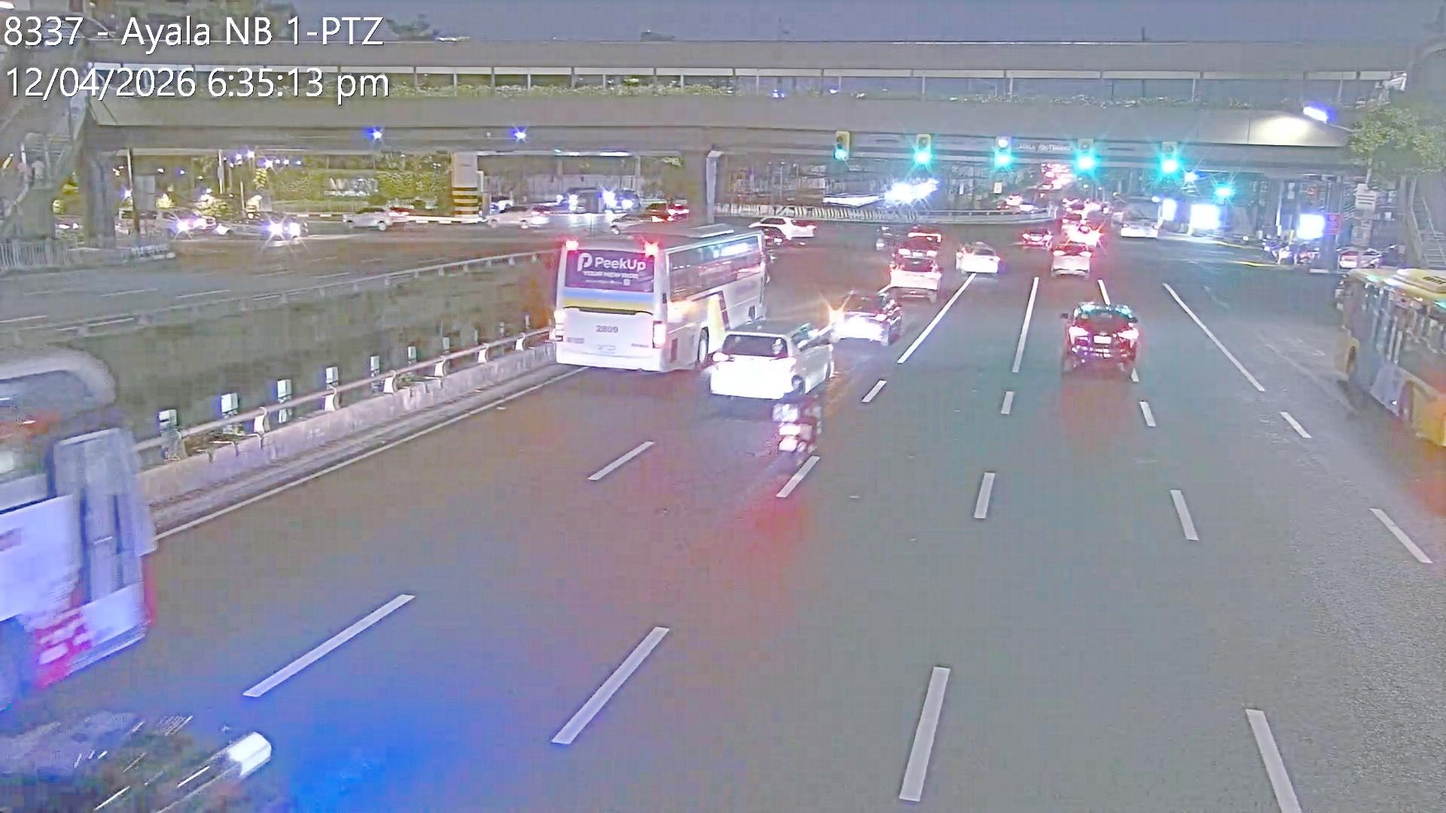Car: (708, 320, 833, 403), (1057, 300, 1144, 376), (830, 292, 899, 346), (886, 253, 942, 300), (893, 230, 944, 266), (746, 214, 819, 239), (1048, 241, 1096, 279), (954, 241, 1004, 277), (345, 207, 410, 230), (487, 206, 551, 229), (620, 201, 683, 222), (753, 222, 788, 249), (1020, 227, 1054, 251)
Motor: (768, 379, 821, 479)
Not Accident: (706, 317, 845, 485), (1018, 224, 1095, 279), (889, 229, 944, 300)
